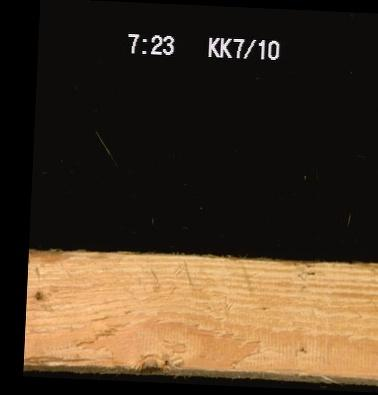edge_knot: (132, 346, 177, 372)
small_knot: (30, 283, 46, 303)
wave: (23, 349, 128, 371), (28, 248, 131, 263)
